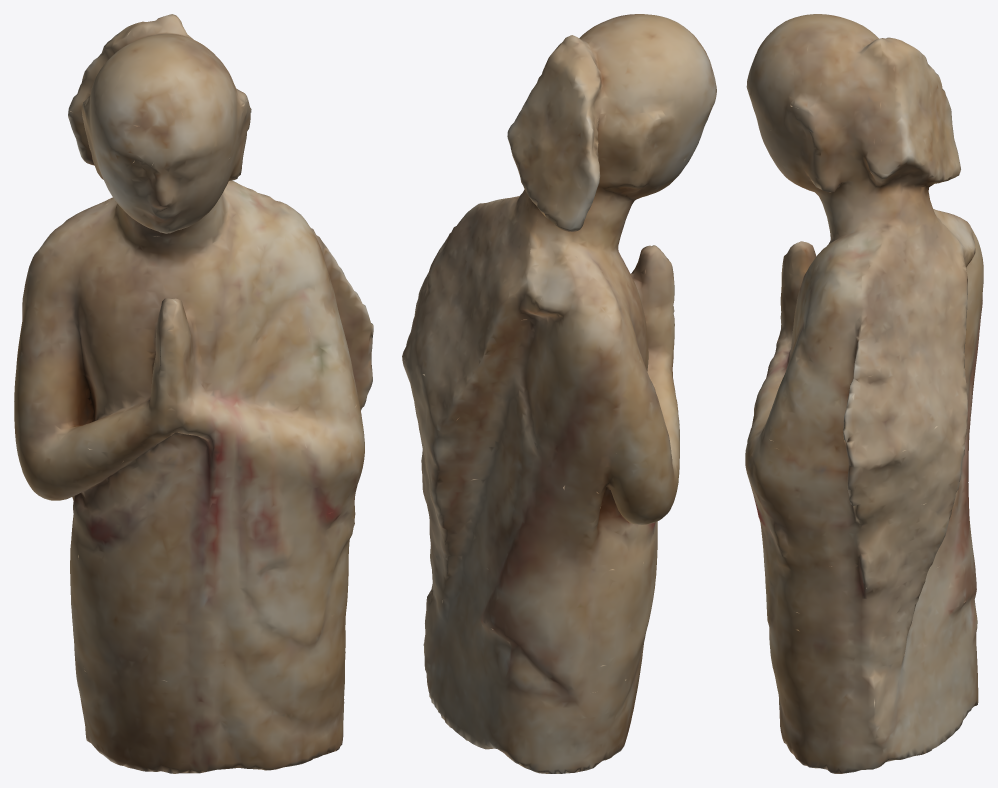
The model's file is arhat.glb.
The picture shows the model from 3 angles, left to right: view 1: azimuth 30°, elevation 25°; view 2: azimuth 150°, elevation 25°; view 3: azimuth 270°, elevation 25°; orthographic projection. The views are drawn at different scales.
Parts seen in each view (by area): view 1: arhat; view 2: arhat; view 3: arhat.
Part boxes in pixels (<box>): arhat: <box>14,14,373,773</box>; arhat: <box>402,14,716,773</box>; arhat: <box>745,14,983,773</box>.
Size of the model in its own units: 0.4424 by 0.9994 by 0.3195.
